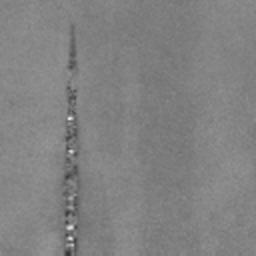Slag inclusion: (58, 20, 82, 256)
